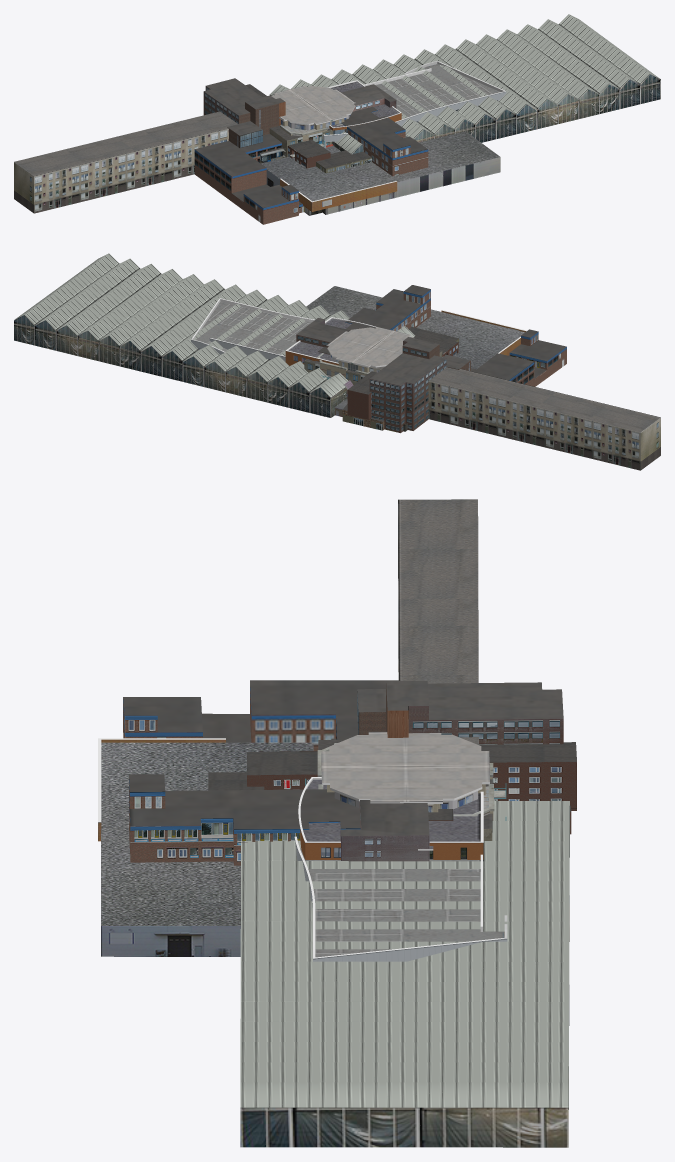
File: Buildings_pack06.FBX
The picture shows the model from 3 angles, top to bottom: view 1: azimuth 30°, elevation 25°; view 2: azimuth 150°, elevation 25°; view 3: azimuth 270°, elevation 25°; orthographic projection. The views are drawn at different scales.
Parts seen in each view (by area): view 1: greenhouse, apartments2, retirementHome3, store1, store2, retirementHome2, apartments1, retirementHome1, apartments3; view 2: greenhouse, apartments2, retirementHome2, retirementHome3, store2, store1, apartments1, retirementHome1, apartments3; view 3: greenhouse, retirementHome3, store1, retirementHome2, store2, apartments2, apartments1, retirementHome1.
Part boxes in pixels (x1,y1,x2,y2): greenhouse: [269, 14, 660, 154]; apartments2: [14, 111, 237, 213]; retirementHome3: [194, 106, 428, 224]; store1: [261, 131, 500, 215]; store2: [323, 61, 506, 147]; retirementHome2: [203, 78, 396, 148]; apartments1: [271, 86, 355, 141]; retirementHome1: [245, 84, 371, 173]; apartments3: [260, 125, 333, 163]; greenhouse: [14, 253, 414, 417]; apartments2: [369, 366, 660, 470]; retirementHome2: [296, 318, 470, 433]; retirementHome3: [345, 285, 566, 386]; store2: [191, 298, 376, 365]; store1: [306, 286, 526, 369]; apartments1: [317, 327, 413, 378]; retirementHome1: [318, 326, 458, 430]; apartments3: [304, 350, 442, 431]; greenhouse: [240, 801, 569, 1147]; retirementHome3: [123, 680, 398, 865]; store1: [98, 738, 313, 956]; retirementHome2: [340, 681, 563, 861]; store2: [294, 777, 507, 961]; apartments2: [398, 499, 478, 744]; apartments1: [317, 731, 494, 820]; retirementHome1: [208, 742, 576, 834].
Size of the model in its own units: 8671 by 3061 by 748.
